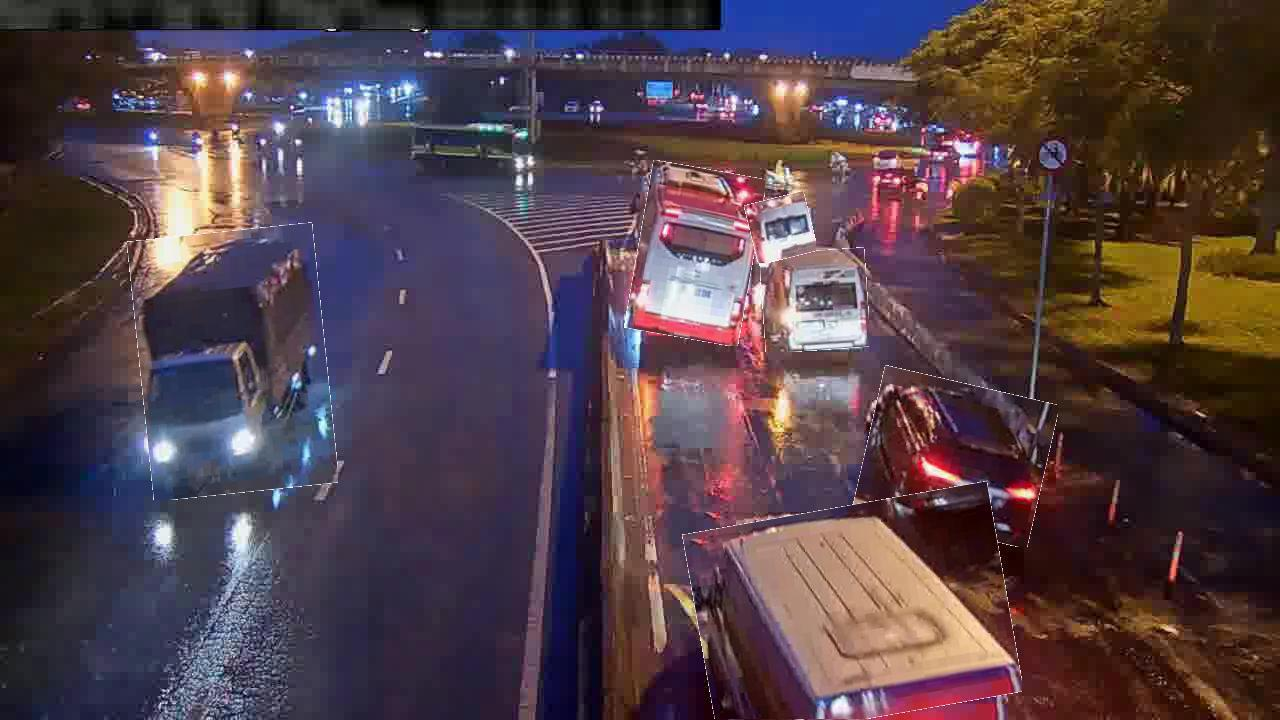14: (690, 493, 1016, 719), (631, 165, 760, 343), (761, 249, 869, 352), (747, 194, 814, 261)
8: (134, 227, 333, 497)
container: (859, 374, 1052, 539)
